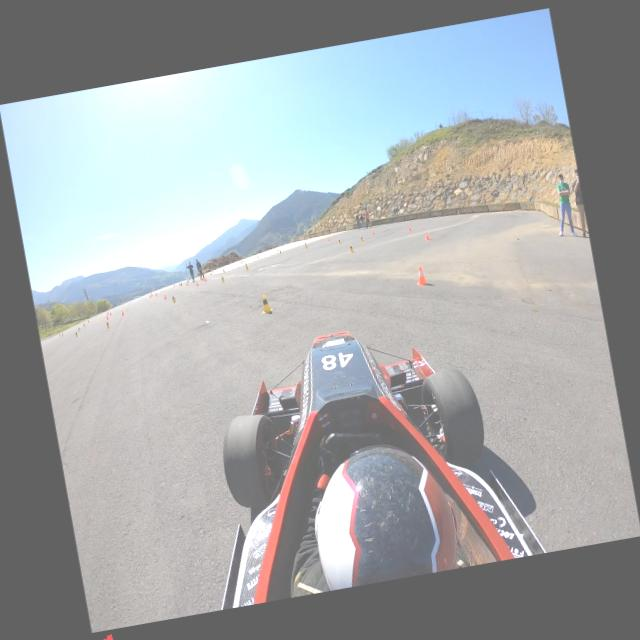orange_cone: (413, 264, 428, 286), (422, 229, 430, 240), (406, 222, 412, 232), (164, 292, 168, 299), (196, 280, 200, 286), (371, 228, 375, 234), (327, 236, 330, 242), (105, 313, 108, 319), (121, 309, 124, 315), (154, 292, 158, 296), (204, 276, 207, 281), (87, 318, 90, 322), (186, 280, 188, 286), (61, 332, 64, 336), (106, 310, 109, 314), (109, 311, 111, 315), (149, 294, 151, 298), (150, 292, 152, 296), (59, 332, 60, 336)
yellow_cone: (258, 293, 274, 313), (347, 242, 355, 252), (171, 294, 177, 303), (220, 274, 226, 282), (74, 330, 80, 338), (359, 233, 364, 242), (336, 238, 342, 245), (106, 319, 110, 328), (245, 264, 249, 271), (279, 248, 282, 254), (305, 242, 308, 248), (256, 254, 260, 258), (82, 322, 85, 327), (78, 326, 81, 331), (244, 262, 247, 266)
